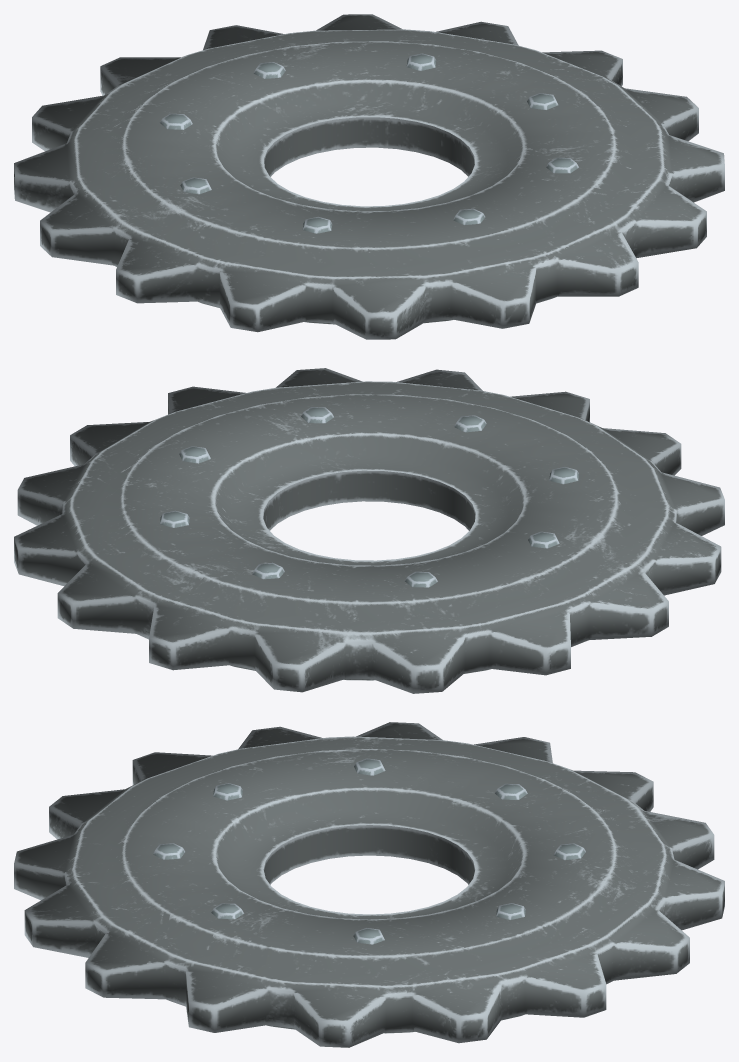
File: stylized_gear.glb
The picture shows the model from 3 angles, top to bottom: view 1: azimuth 30°, elevation 25°; view 2: azimuth 150°, elevation 25°; view 3: azimuth 270°, elevation 25°; orthographic projection.
Visible parts, largest first — view 1: Base_low, Bolts_low; view 2: Base_low, Bolts_low; view 3: Base_low, Bolts_low.
Boxes of the visible parts, x1,y1,x2,y2 form: Base_low: (14,14,724,339); Bolts_low: (160,53,578,233); Base_low: (14,368,724,693); Bolts_low: (160,407,578,587); Base_low: (14,722,724,1047); Bolts_low: (153,758,585,944).
Size of the model in its own units: 2.32 by 0.2597 by 2.32.
Materials: 1 (1 with a texture image).
